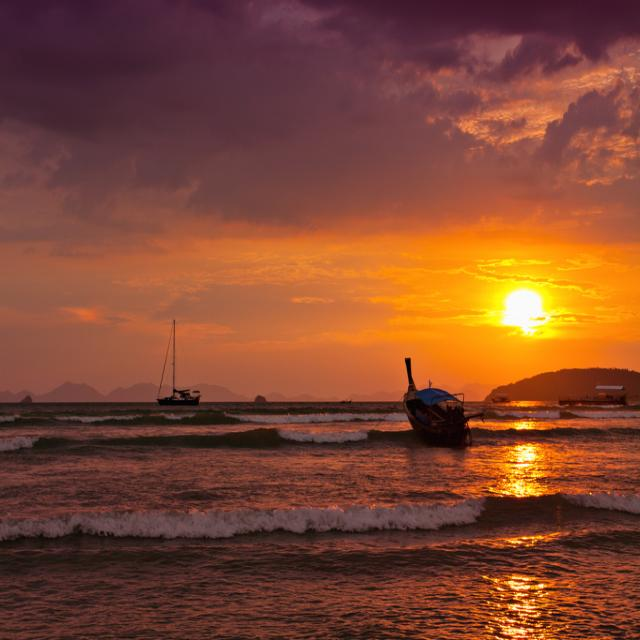Boat: (384, 340, 475, 475), (143, 313, 201, 419)
